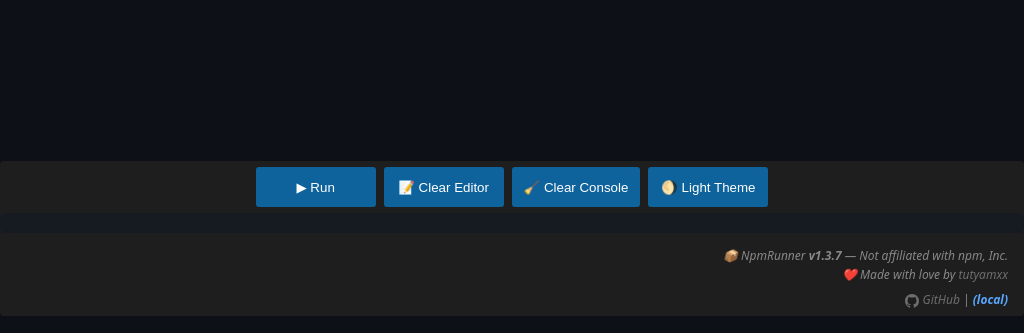
Scenario: 🏖️ Runner Component › Shows error notification if code is empty and Run is pressed
Click the button "▶ Run" at (316, 187), box [256,167,376,207]
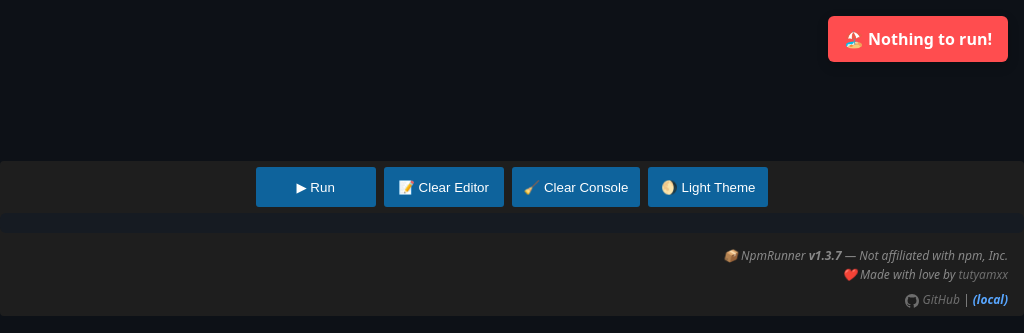
Check: the text "🏖️ Nothing to run!" is shown, box [828,16,1008,62]
